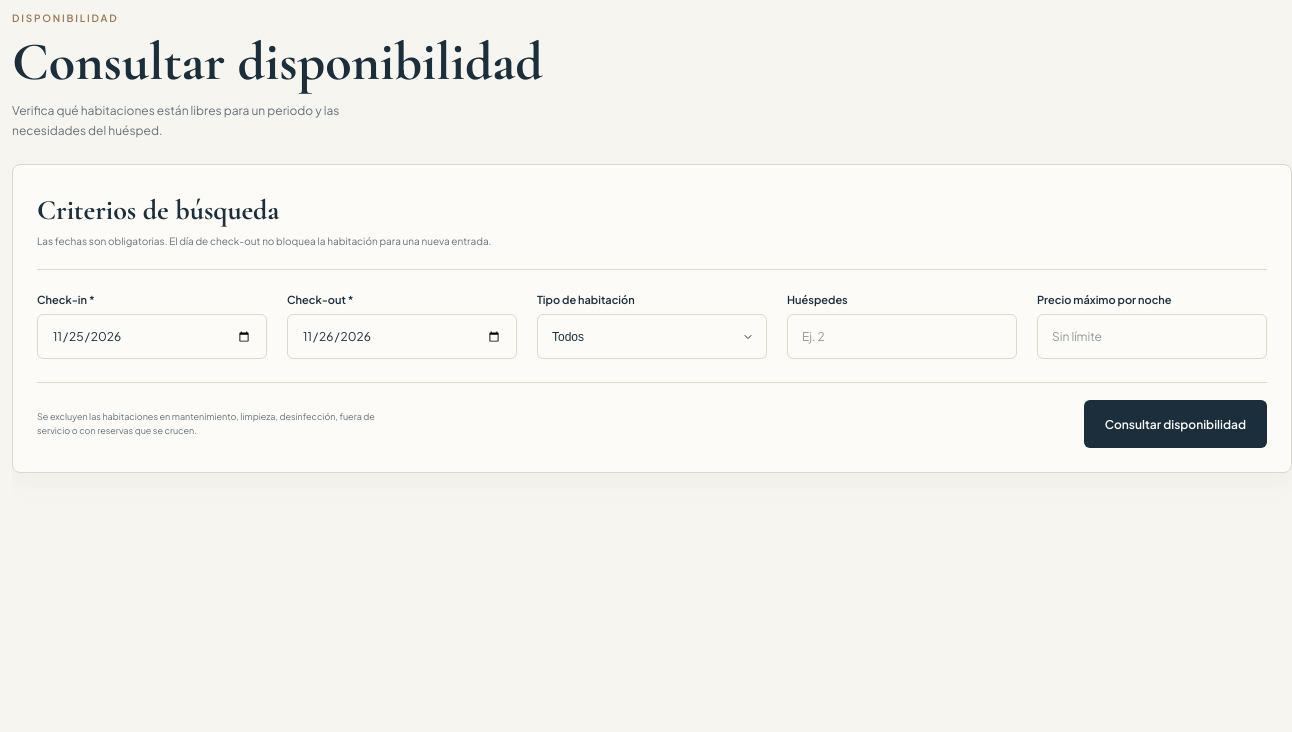
Test: AvailabilityPage › muestra el detalle del error cuando la API rechaza la consulta
The image size is (1292, 732).
Click the button "Consultar disponibilidad". click: [1175, 424]
box: x1=1084 y1=400 x2=1267 y2=448
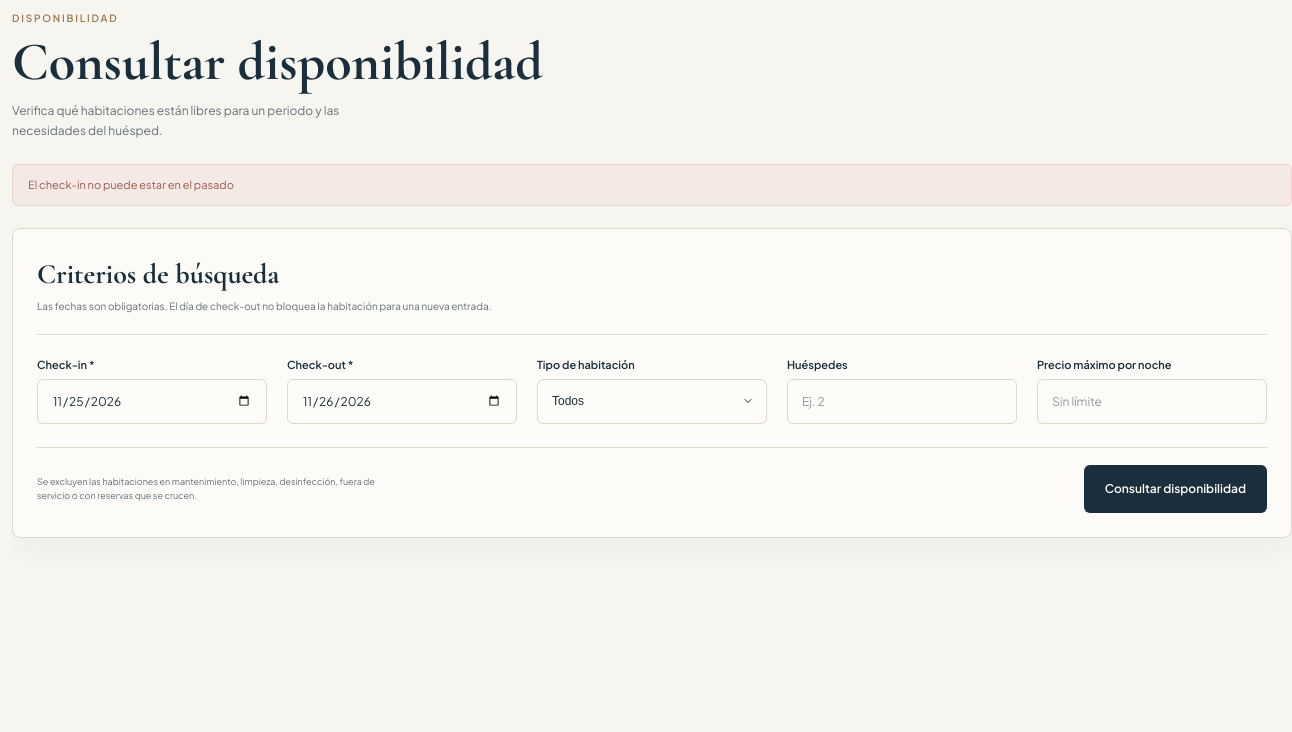
Expected: the text "El check-in no puede estar en el pasado" is shown, x1=12 y1=164 x2=1291 y2=206
